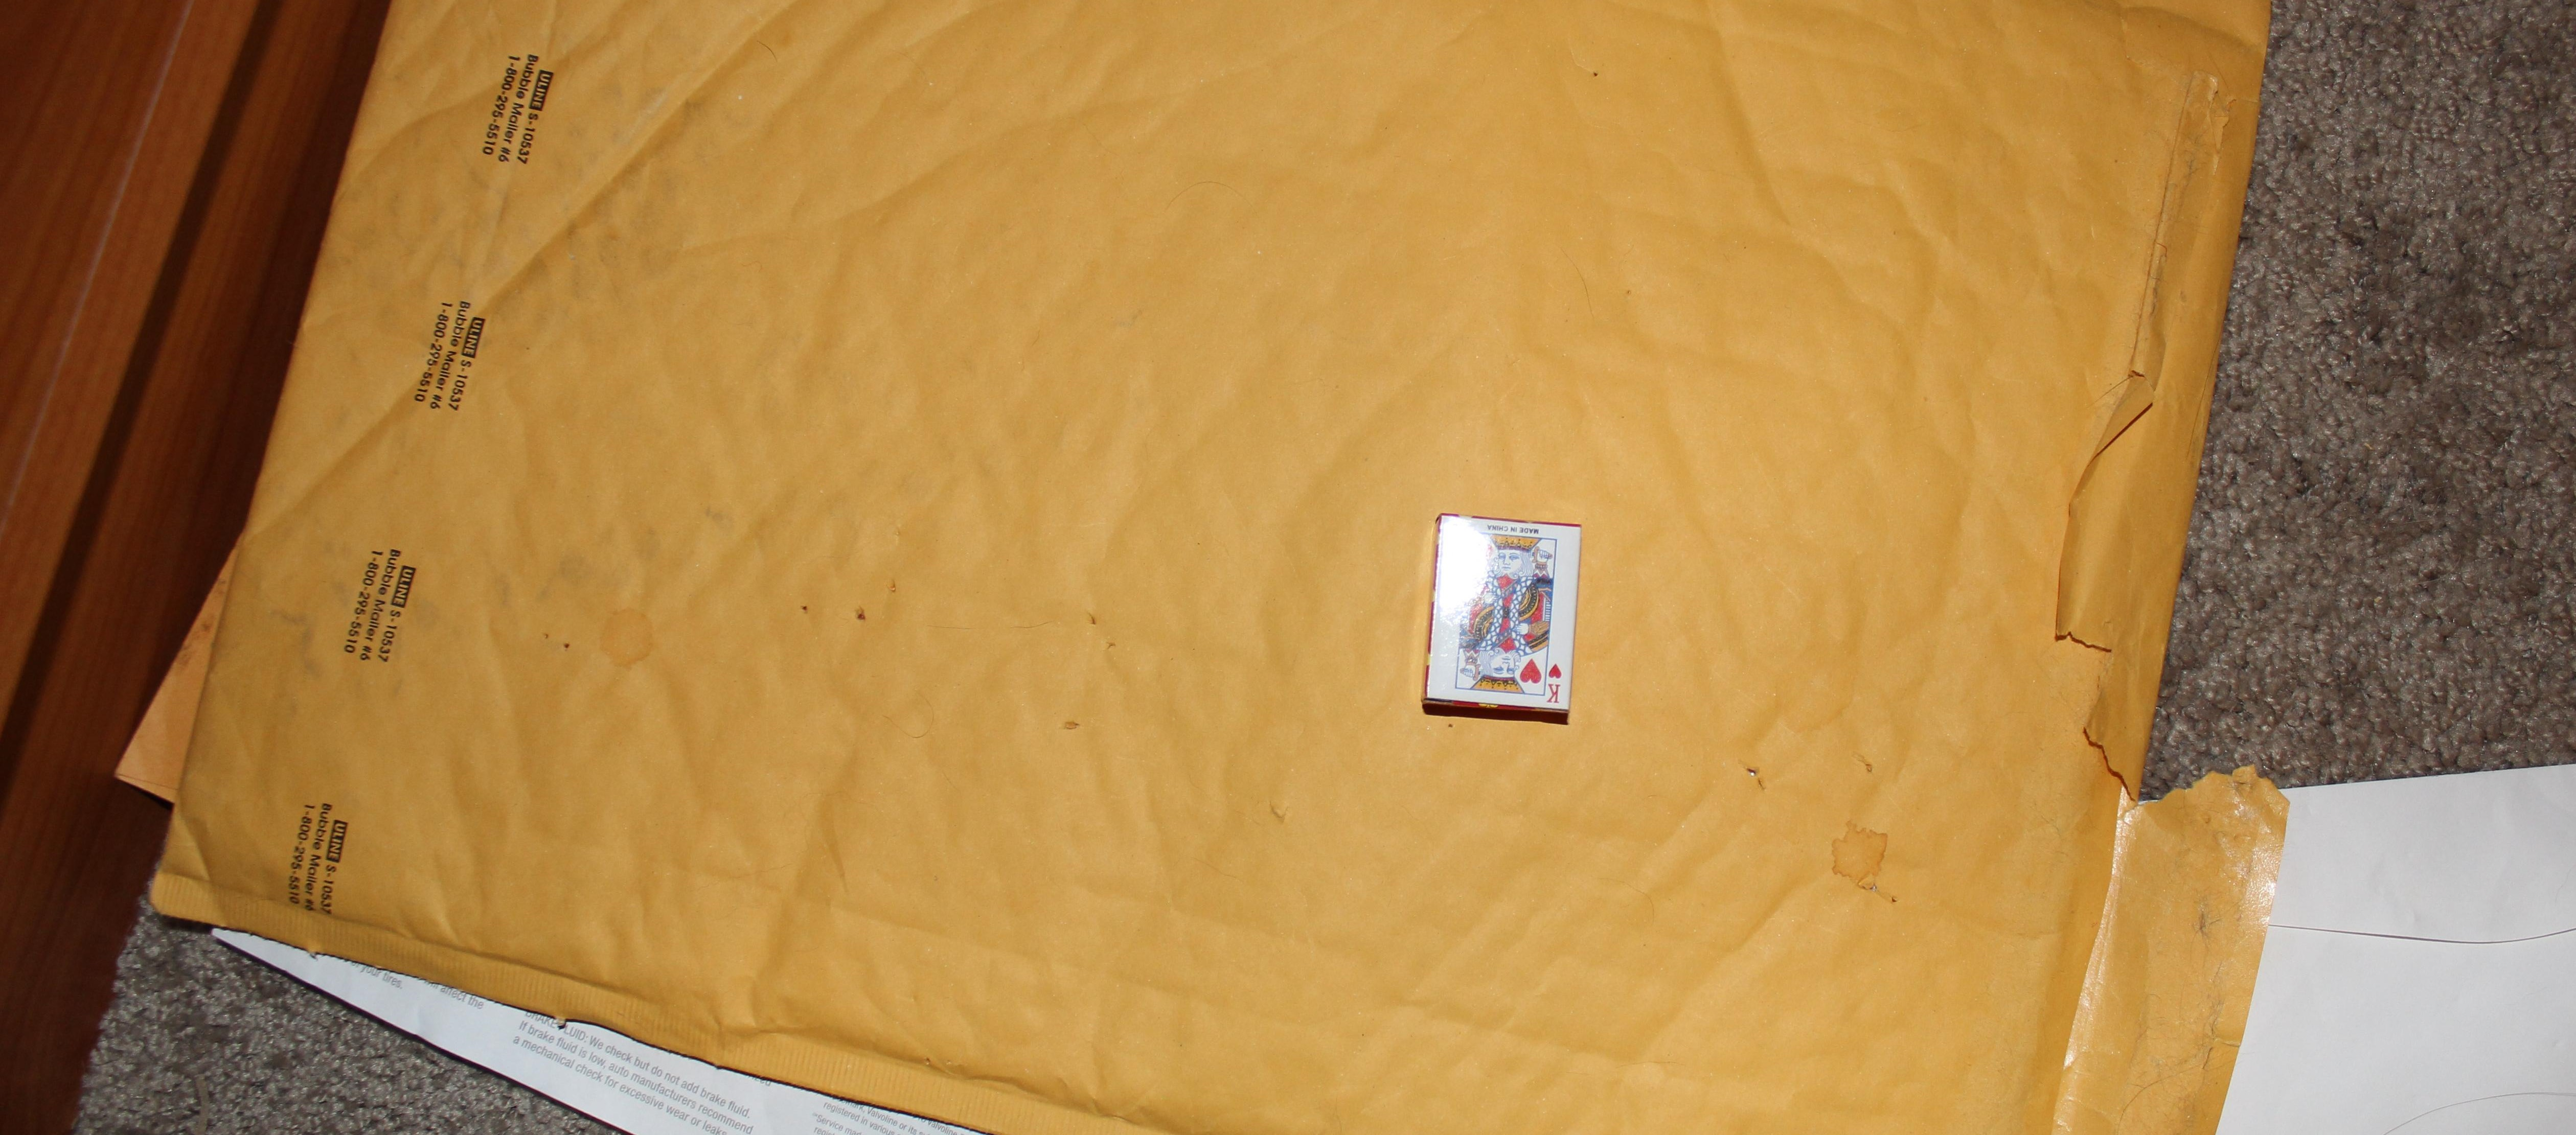miniCards: (1408, 491, 1597, 736)
